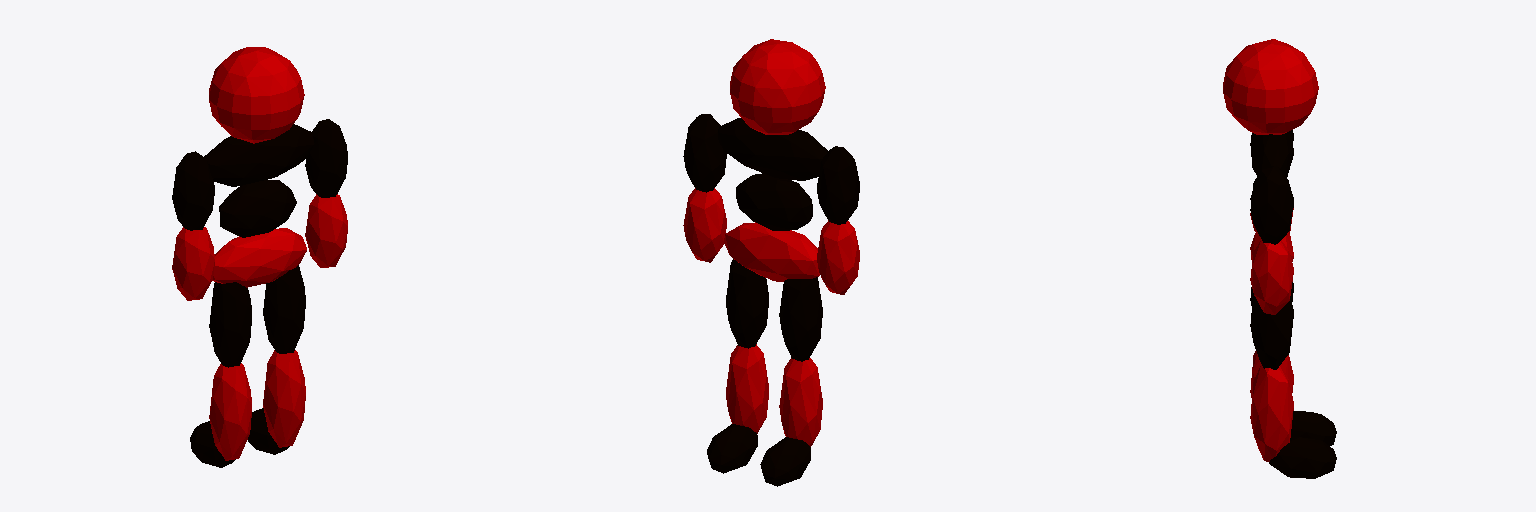
Rendered from target.obj.
3 views of the same model, side by side, from view 1: azimuth 30°, elevation 25°; view 2: azimuth 150°, elevation 25°; view 3: azimuth 270°, elevation 25° (orthographic).
Parts seen in each view (by area): view 1: Sphere.009; view 2: Sphere.009; view 3: Sphere.009.
Part boxes in pixels (bbox=[...]): Sphere.009: bbox=[172, 47, 347, 467]; Sphere.009: bbox=[683, 39, 859, 486]; Sphere.009: bbox=[1223, 39, 1336, 478].
Bounding box in the file's own units: 1.15 × 2.71 × 0.668.